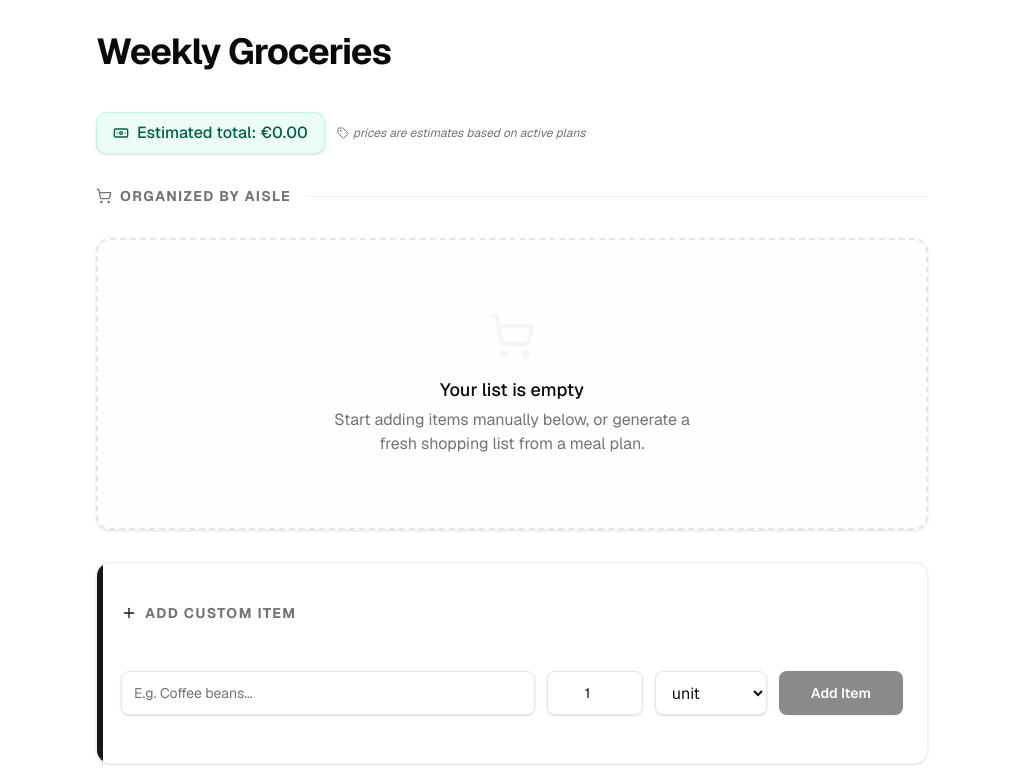
Test case: Editable shopping list name UI › enters edit mode on double-clicking the name
This screenshot has width=1024, height=768.
Double-click the heading "Weekly Groceries" at (244, 52), box [96, 32, 391, 72]
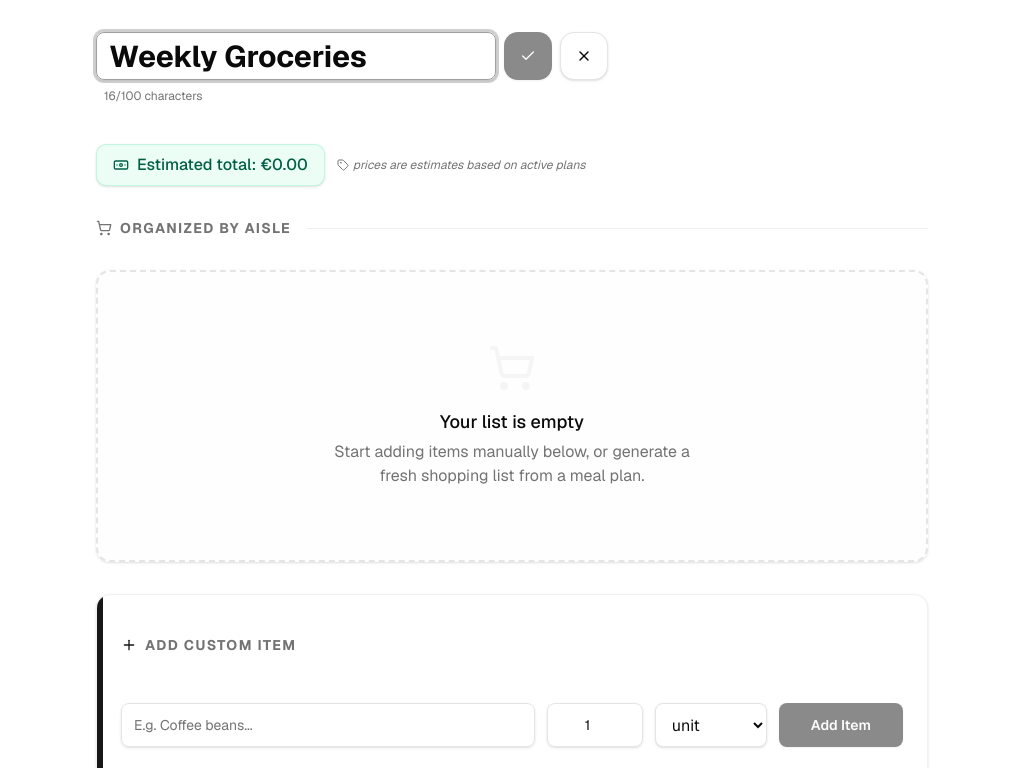
Check: the field showing "Weekly Groceries" is shown, box [96, 32, 496, 80]
